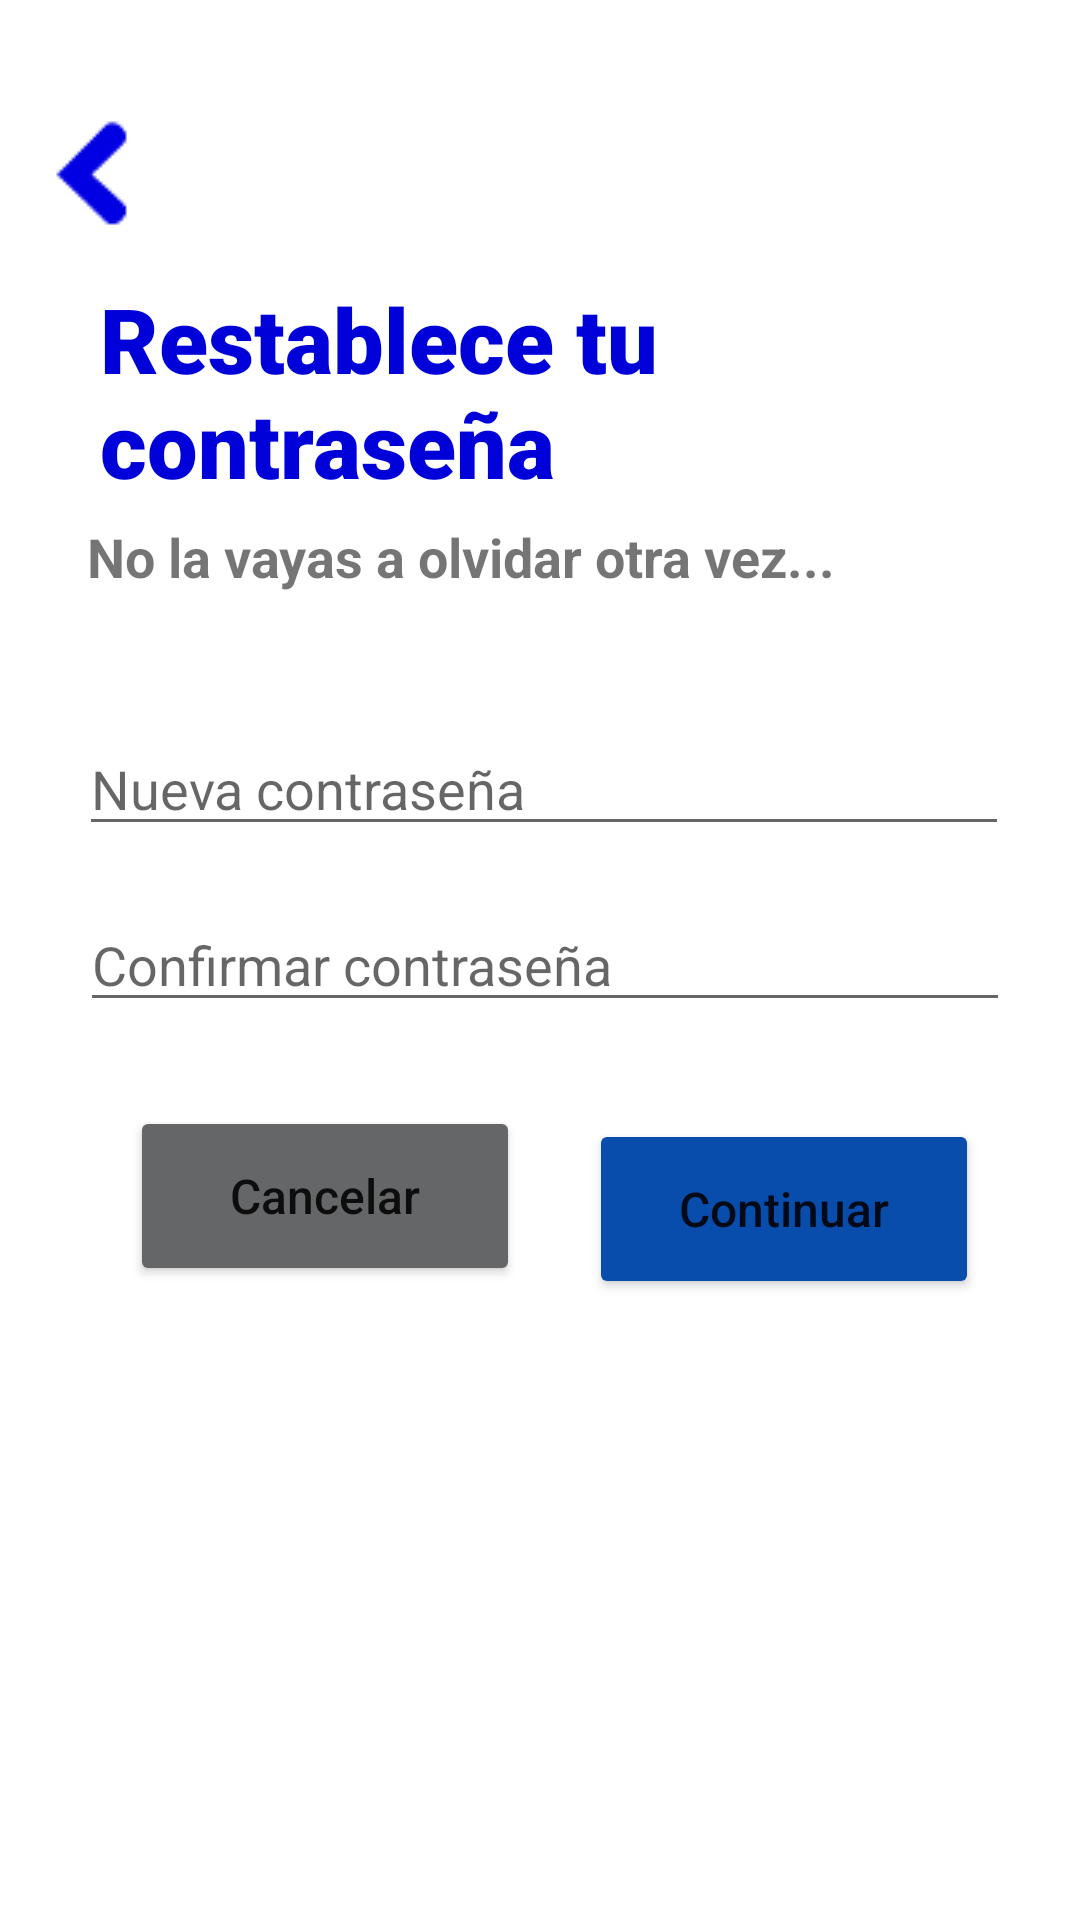

Screen size 1080w x 1920h. Icon name, then its center in pixels as (x,y):
back: (91,173)
